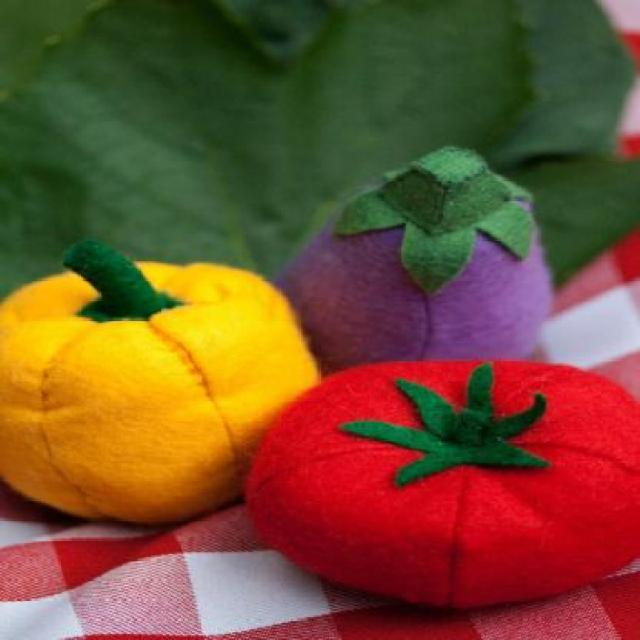Pumpkin: (0, 234, 326, 536), (242, 374, 620, 616)
